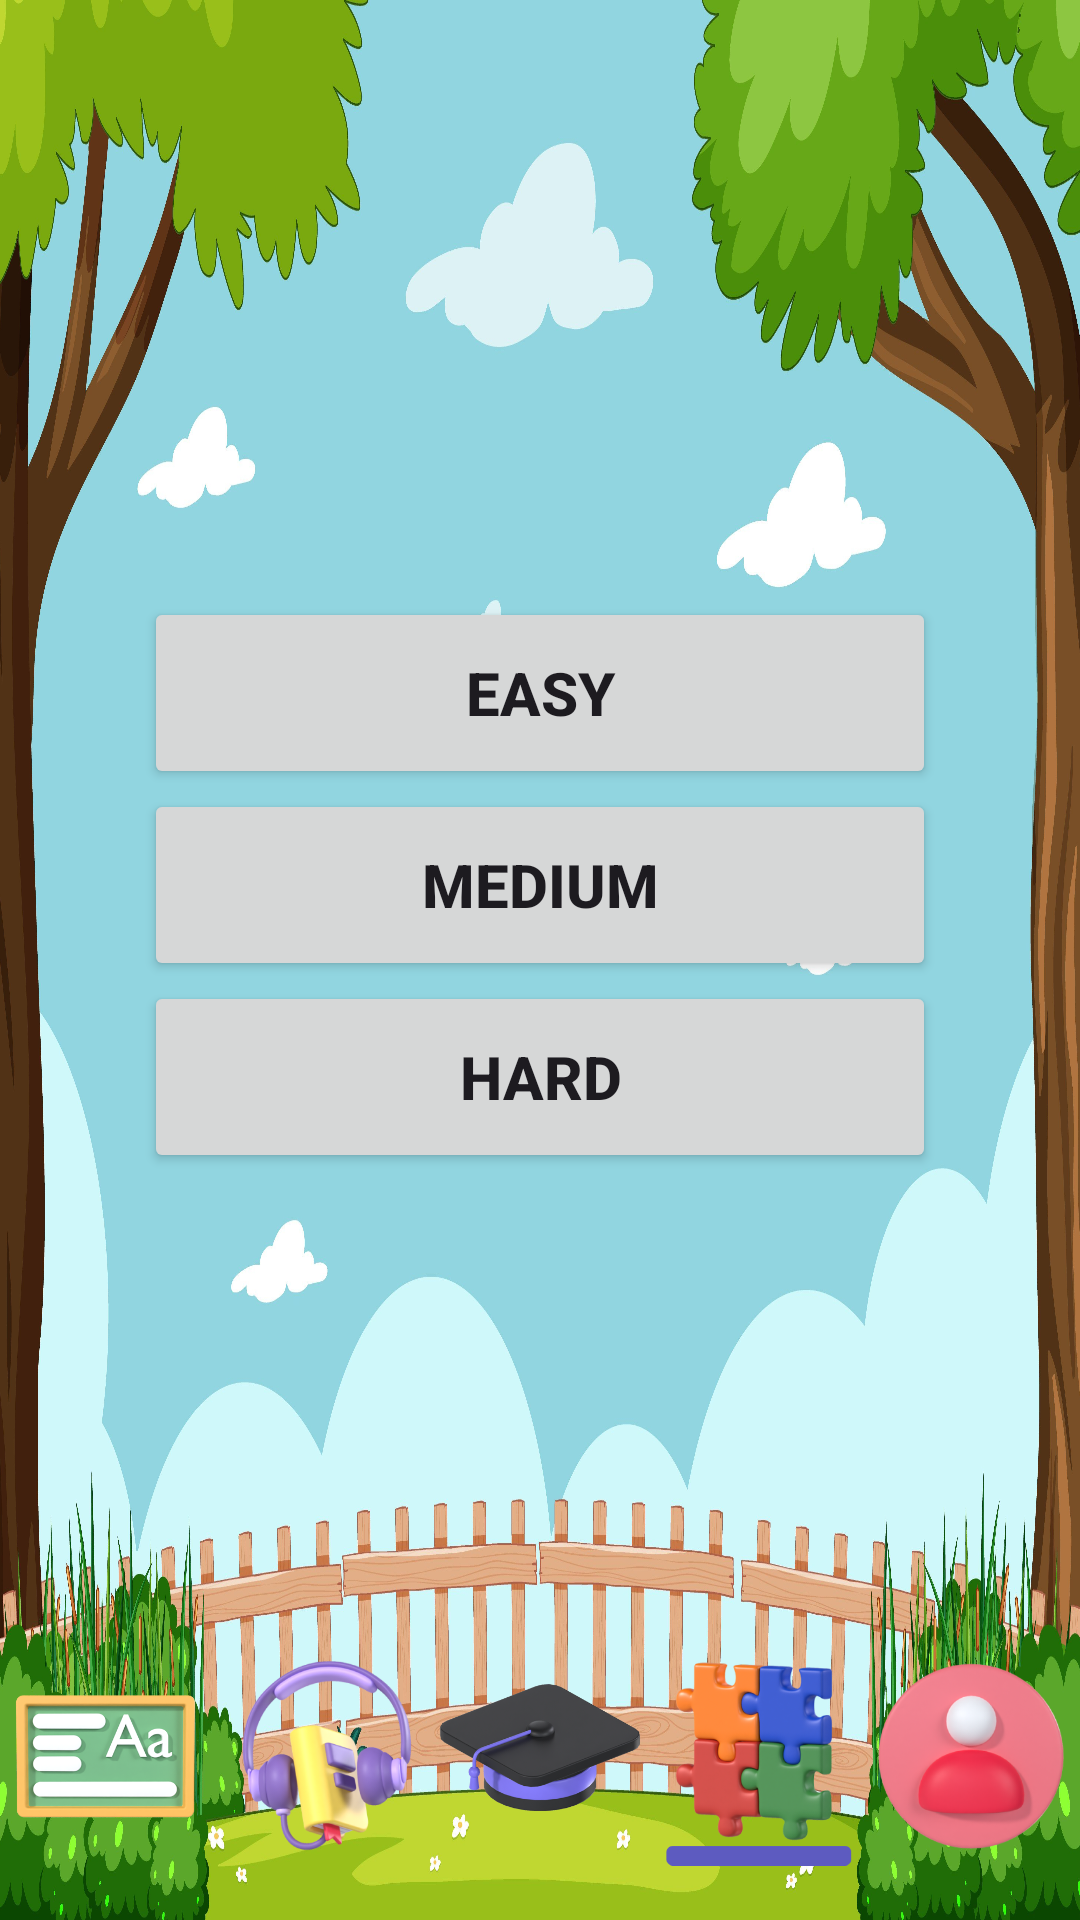

Named icons in this screenshot (1080w x 1920h) and their centers, point (x, y):
bukue: point (324, 1755)
gamee: point (756, 1755)
kuis: point (540, 1755)
materi: point (108, 1755)
profil: point (972, 1755)
